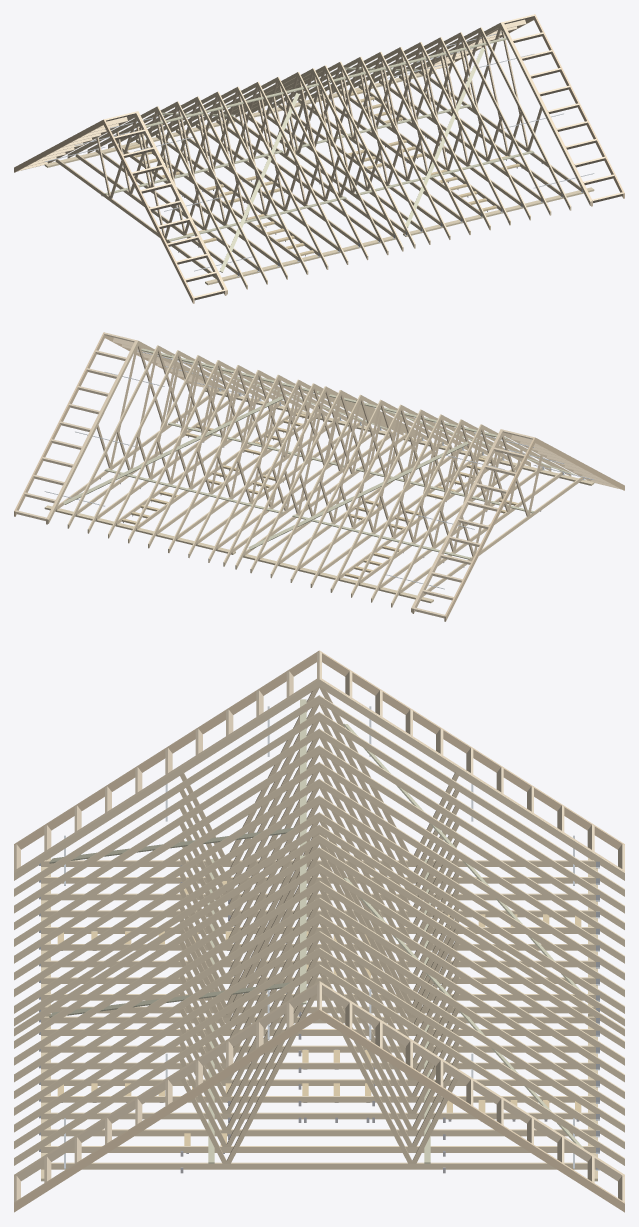
File: stage-5.glb
3 views of the same model, one above another, from view 1: azimuth 30°, elevation 25°; view 2: azimuth 150°, elevation 25°; view 3: azimuth 270°, elevation 25° (orthographic). The views are drawn at different scales.
Parts seen in each view (by area): view 1: Geom3D_TC01 truss chord 35 x 97 TR26 L5656, Geom3D_TW04 truss web 35 x 72 TR26 L1706, Geom3D_BN71 binder 22 x 97 C16 L5284, Geom3D_OR78 outrigger 47 x 122 TR26 L910, Geom3D, Geom3D_BG76 barge 47 x 122 TR26 L5656, Geom3D_47 x 97 TR26 flat ceiling noggin 565 (F6), Geom3D_LR77 ladder rail 47 x 122 TR26 L5656, Geom3D_TCP38 clip; view 2: Geom3D_TC01 truss chord 35 x 97 TR26 L5656, Geom3D_TW04 truss web 35 x 72 TR26 L1706, Geom3D_BN71 binder 22 x 97 C16 L5284, Geom3D_OR78 outrigger 47 x 122 TR26 L910, Geom3D, Geom3D_BG76 barge 47 x 122 TR26 L5656, Geom3D_47 x 97 TR26 flat ceiling noggin 565 (F6), Geom3D_LR77 ladder rail 47 x 122 TR26 L5656, Geom3D_TCP38 clip; view 3: Geom3D_TC01 truss chord 35 x 97 TR26 L5656, Geom3D_TW04 truss web 35 x 72 TR26 L1706, Geom3D_BG76 barge 47 x 122 TR26 L5656, Geom3D_LR77 ladder rail 47 x 122 TR26 L5656, Geom3D_OR78 outrigger 47 x 122 TR26 L910, Geom3D_BN71 binder 22 x 97 C16 L5284, Geom3D_47 x 97 TR26 flat ceiling noggin 565 (F6), Geom3D_TCP38 clip, Geom3D.
Part boxes in pixels (box(x1,y1,x2,y2)): Geom3D_TC01 truss chord 35 x 97 TR26 L5656: box(55, 22, 591, 294); Geom3D_TW04 truss web 35 x 72 TR26 L1706: box(96, 27, 542, 238); Geom3D_BN71 binder 22 x 97 C16 L5284: box(104, 37, 534, 272); Geom3D_OR78 outrigger 47 x 122 TR26 L910: box(18, 14, 623, 300); Geom3D: box(44, 70, 594, 285); Geom3D_BG76 barge 47 x 122 TR26 L5656: box(14, 14, 624, 303); Geom3D_47 x 97 TR26 flat ceiling noggin 565 (F6): box(124, 90, 519, 255); Geom3D_LR77 ladder rail 47 x 122 TR26 L5656: box(47, 22, 592, 295); Geom3D_TCP38 clip: box(44, 32, 594, 281); Geom3D_TC01 truss chord 35 x 97 TR26 L5656: box(47, 340, 582, 612); Geom3D_TW04 truss web 35 x 72 TR26 L1706: box(96, 345, 542, 556); Geom3D_BN71 binder 22 x 97 C16 L5284: box(63, 348, 575, 559); Geom3D_OR78 outrigger 47 x 122 TR26 L910: box(15, 332, 620, 618); Geom3D: box(44, 388, 594, 603); Geom3D_BG76 barge 47 x 122 TR26 L5656: box(14, 332, 624, 621); Geom3D_47 x 97 TR26 flat ceiling noggin 565 (F6): box(122, 412, 517, 578); Geom3D_LR77 ladder rail 47 x 122 TR26 L5656: box(46, 340, 591, 613); Geom3D_TCP38 clip: box(44, 350, 593, 589); Geom3D_TC01 truss chord 35 x 97 TR26 L5656: box(14, 678, 624, 1175); Geom3D_TW04 truss web 35 x 72 TR26 L1706: box(179, 686, 459, 1163); Geom3D_BG76 barge 47 x 122 TR26 L5656: box(14, 650, 624, 1212); Geom3D_LR77 ladder rail 47 x 122 TR26 L5656: box(14, 677, 624, 1181); Geom3D_OR78 outrigger 47 x 122 TR26 L910: box(14, 652, 624, 1202); Geom3D_BN71 binder 22 x 97 C16 L5284: box(49, 699, 583, 1163); Geom3D_47 x 97 TR26 flat ceiling noggin 565 (F6): box(57, 881, 581, 1145); Geom3D_TCP38 clip: box(39, 706, 599, 1170); Geom3D: box(41, 858, 597, 1181).
Size of the model in its own units: 12.9 by 3.39 by 9.27.
